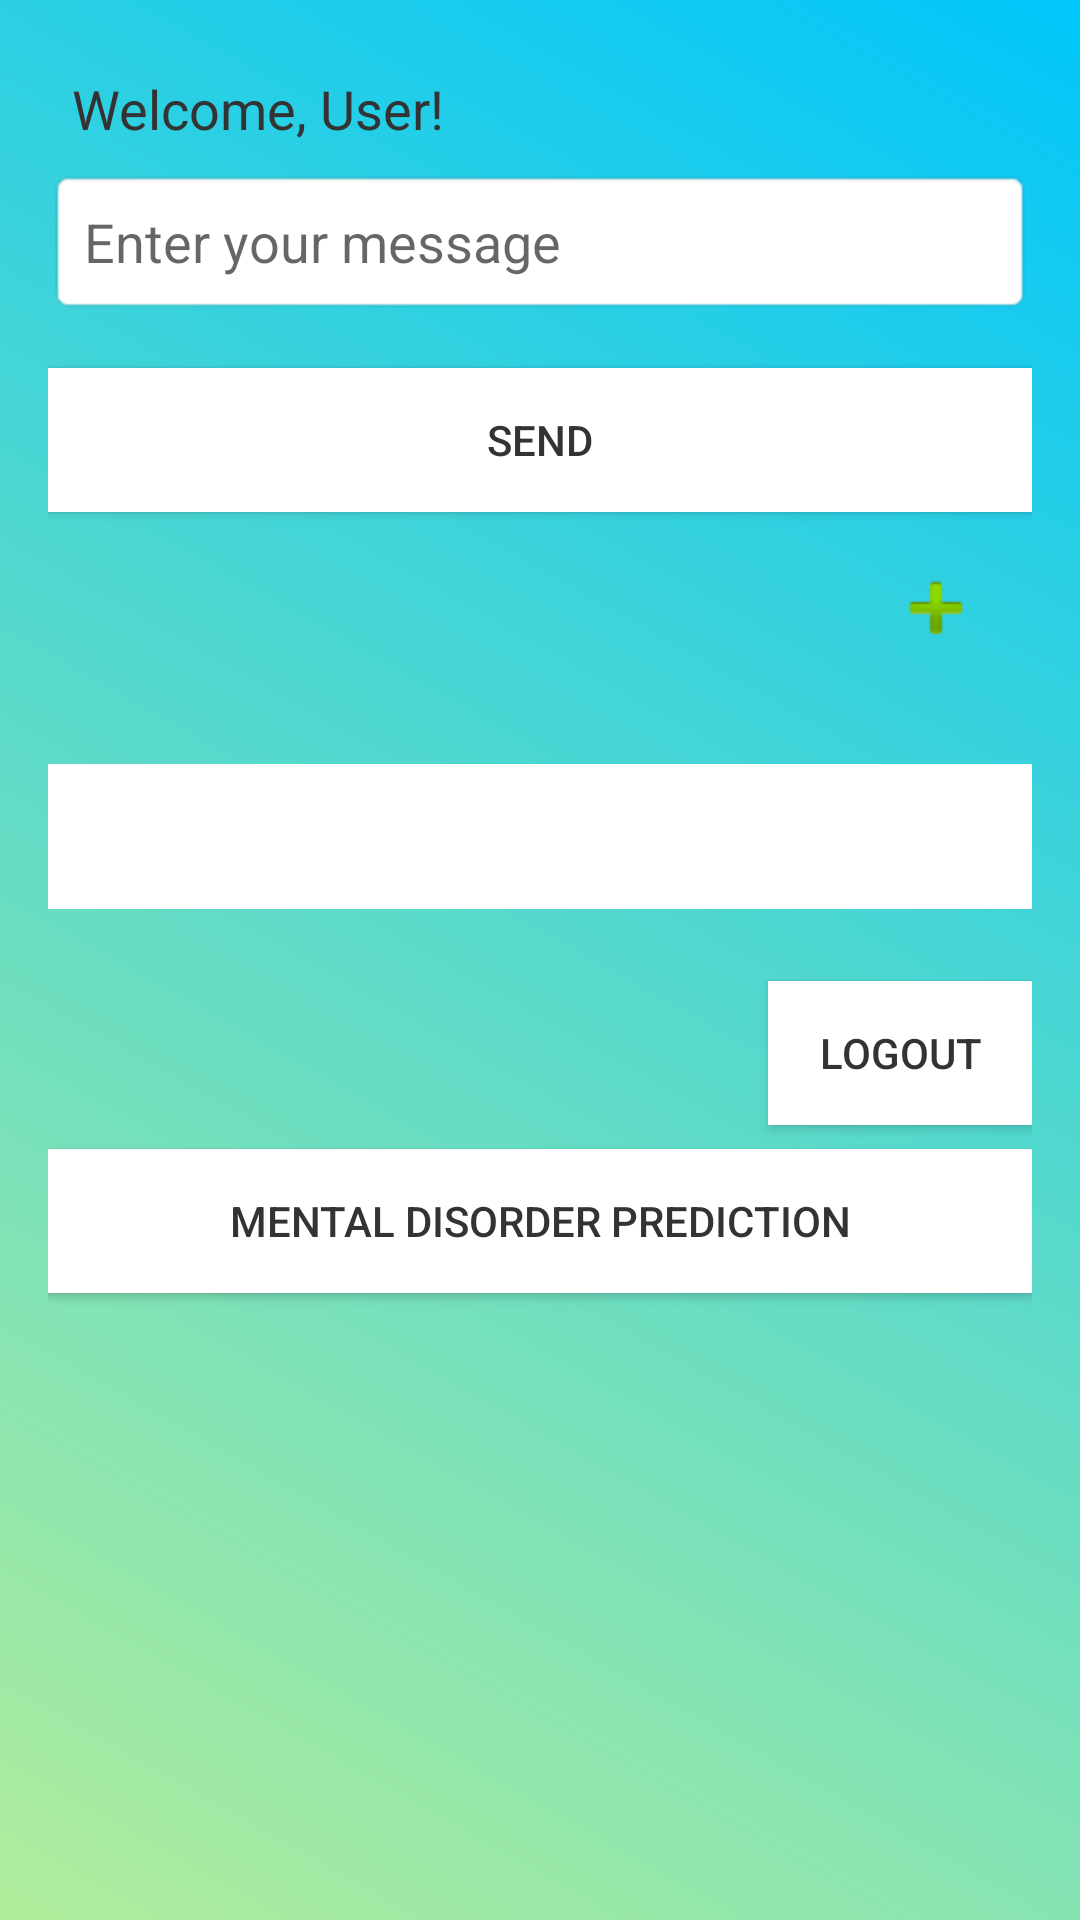

Icons on this 1080×1920 Android screen, each with its box as [x1=x1, y1=y1, x2=x2, y2=y2]:
add: [x1=909, y1=581, x2=963, y2=635]
